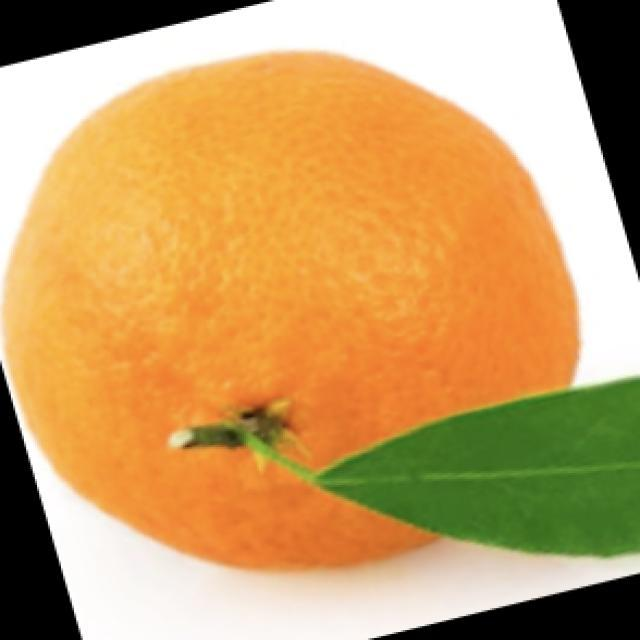matang: (5, 53, 579, 568)
